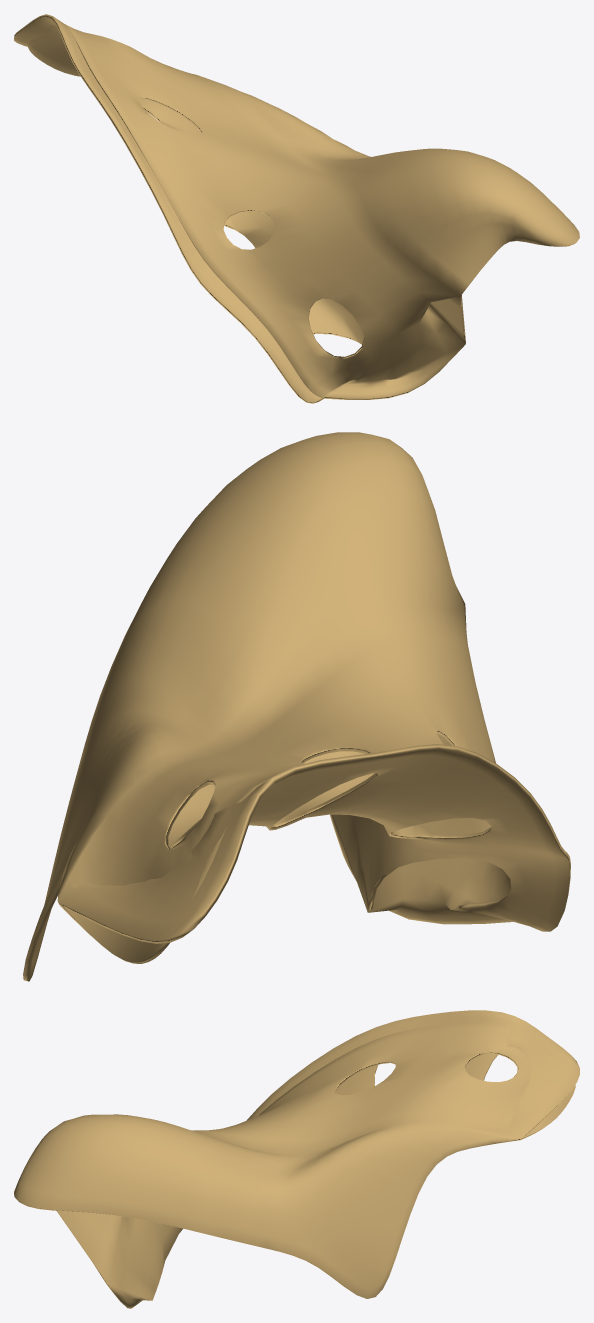
3 views of the same model, one above another, from view 1: azimuth 30°, elevation 25°; view 2: azimuth 150°, elevation 25°; view 3: azimuth 270°, elevation 25° (orthographic). The views are drawn at different scales.
Visible parts, largest first — view 1: 左侧骶髂后韧带; view 2: 左侧骶髂后韧带; view 3: 左侧骶髂后韧带.
Boxes of the visible parts, x1=… form: 左侧骶髂后韧带: x1=14, y1=14, x2=579, y2=403; 左侧骶髂后韧带: x1=23, y1=432, x2=570, y2=981; 左侧骶髂后韧带: x1=14, y1=1010, x2=579, y2=1308.
Bounding box in the file's own units: 0.0752 × 0.064 × 0.1402.
